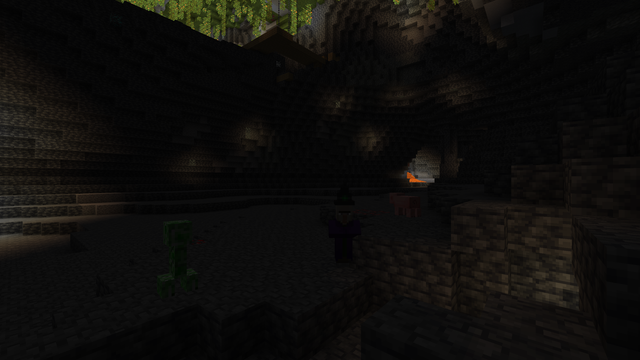cochons: (393, 195, 420, 217)
creepers: (158, 216, 195, 298)
sorcieres: (330, 200, 357, 269)
